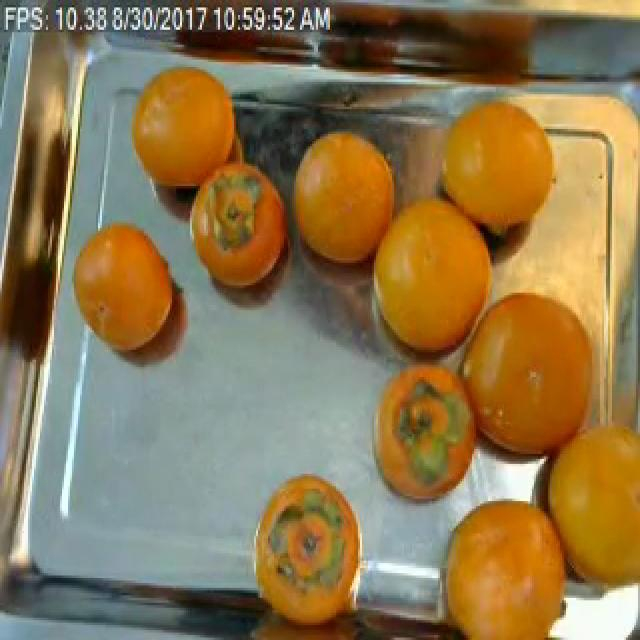Fruit: (354, 186, 514, 390), (62, 203, 208, 382), (422, 479, 576, 640), (240, 462, 378, 638), (278, 112, 414, 290), (358, 350, 498, 518), (174, 146, 304, 325), (118, 50, 236, 213)
